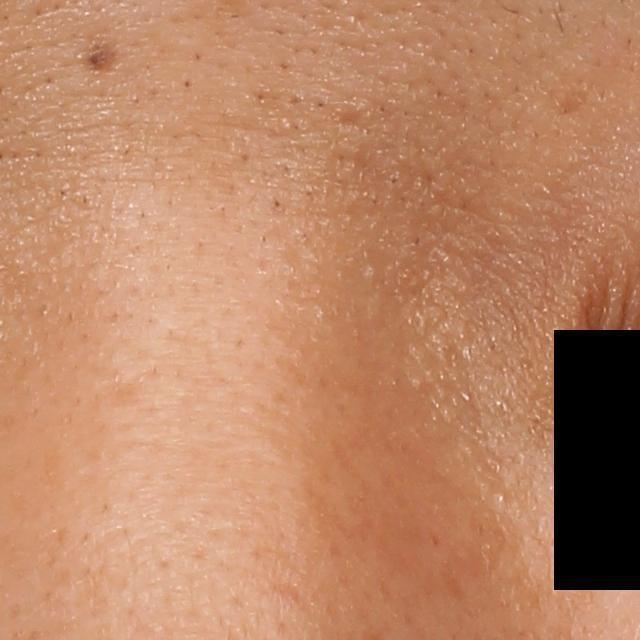nevus: (83, 40, 110, 73)
